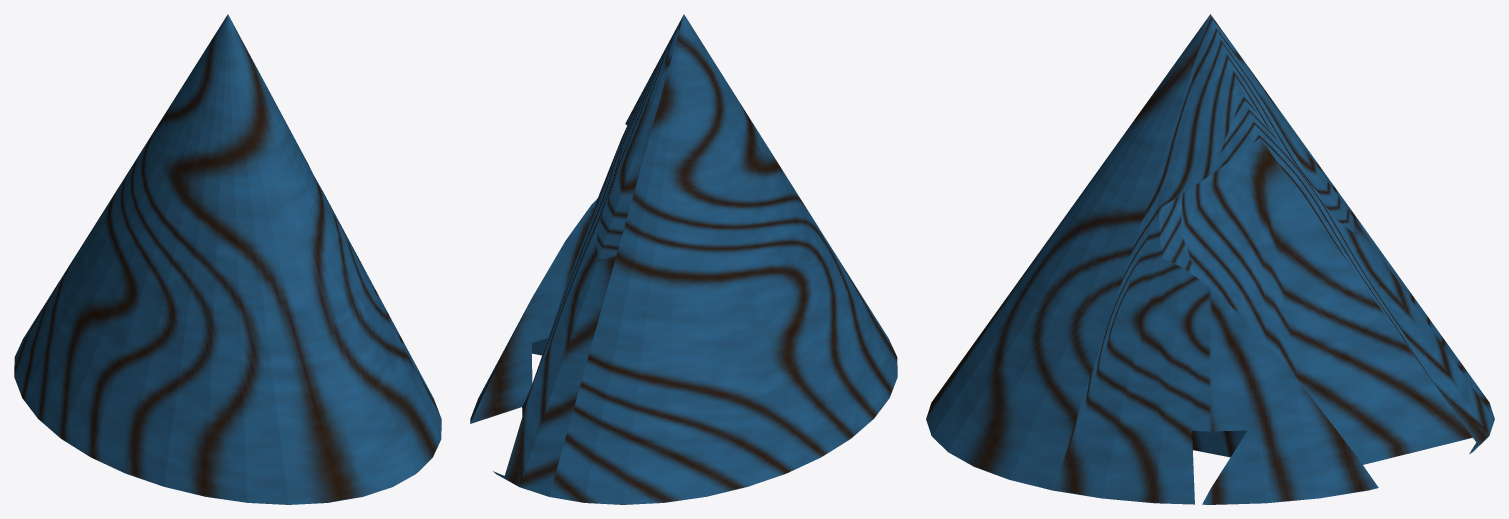
3 renders of one model, left to right at view 1: azimuth 30°, elevation 25°; view 2: azimuth 150°, elevation 25°; view 3: azimuth 270°, elevation 25°, orthographic. The views are drawn at different scales.
Parts seen in each view (by area): view 1: geometry_0; view 2: geometry_0; view 3: geometry_0.
Part boxes in pixels (<box>): geometry_0: <box>14,14,441,504</box>; geometry_0: <box>470,14,897,504</box>; geometry_0: <box>926,14,1494,504</box>.
Bounding box in the file's own units: 0.739 × 0.8129 × 1.03.
Materials: 1 (1 with a texture image).
